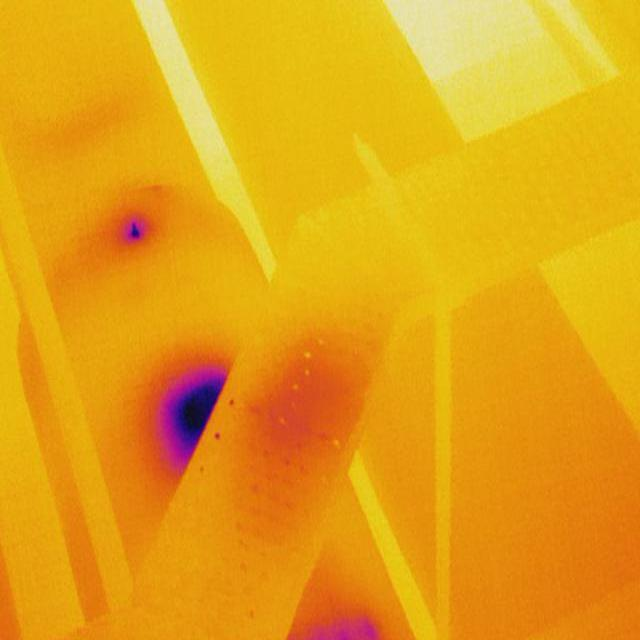leakage: (244, 339, 350, 536), (152, 365, 227, 462), (308, 608, 381, 640), (121, 214, 148, 248)
